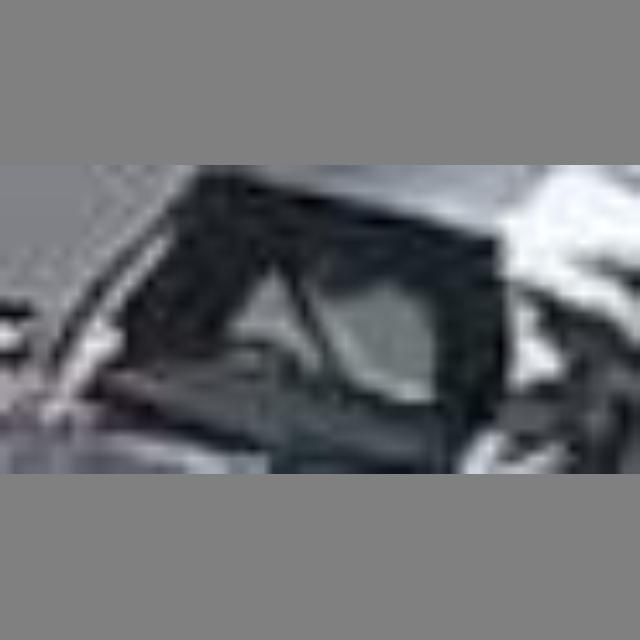pakai: (206, 258, 465, 423)
